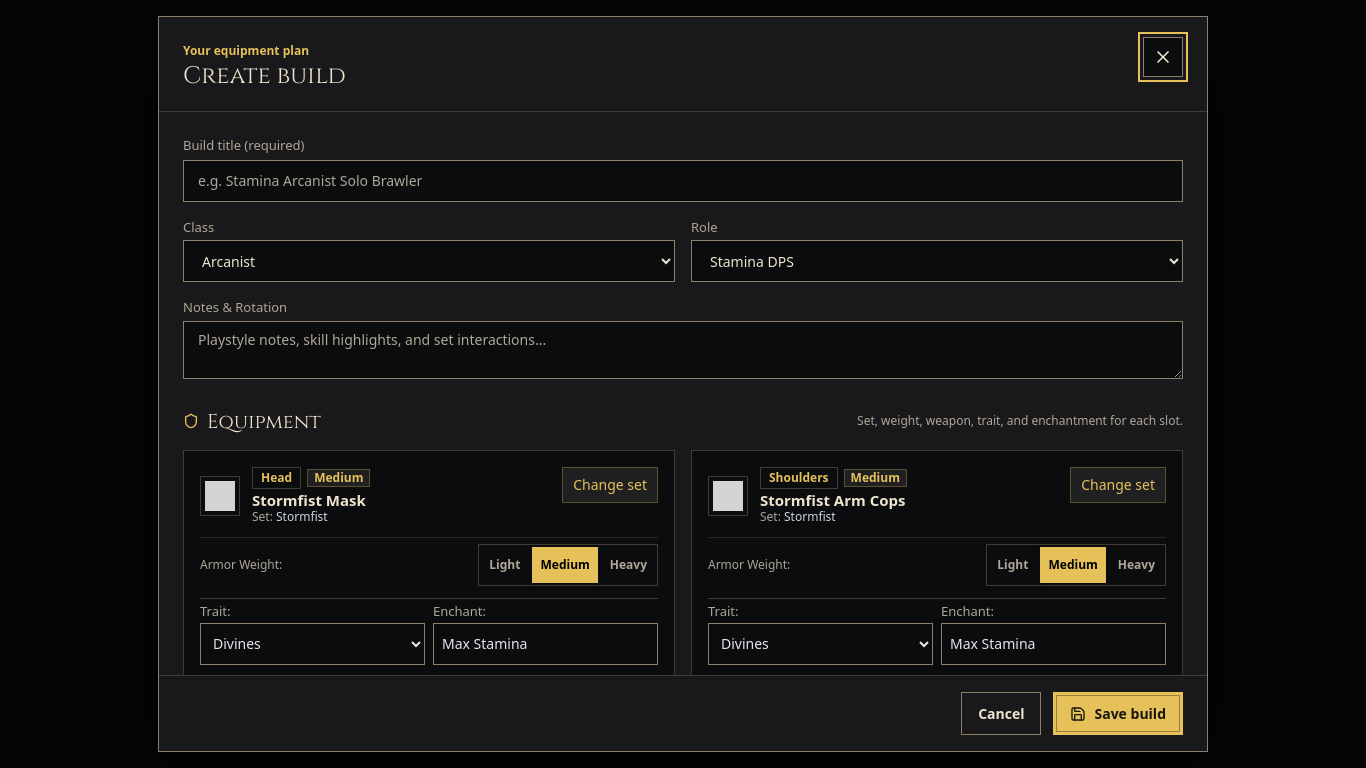
Test case: build presentation and workflow parity › traps the nested set picker, restores its opener, and keeps selected-set resolution
Click the button with aria-label "Change set for Head" at (610, 485), box [562,467,658,503]
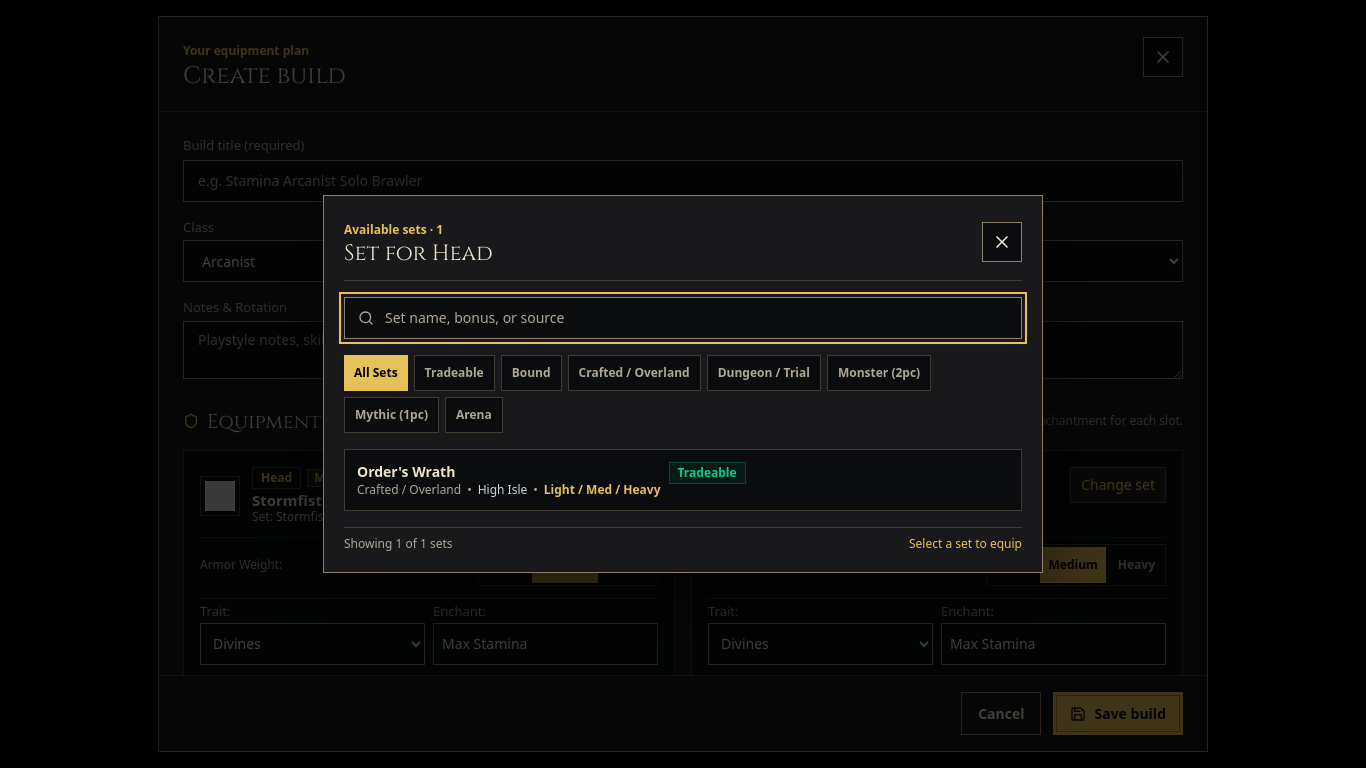
Check: the number of dialogs is 2
Press Escape
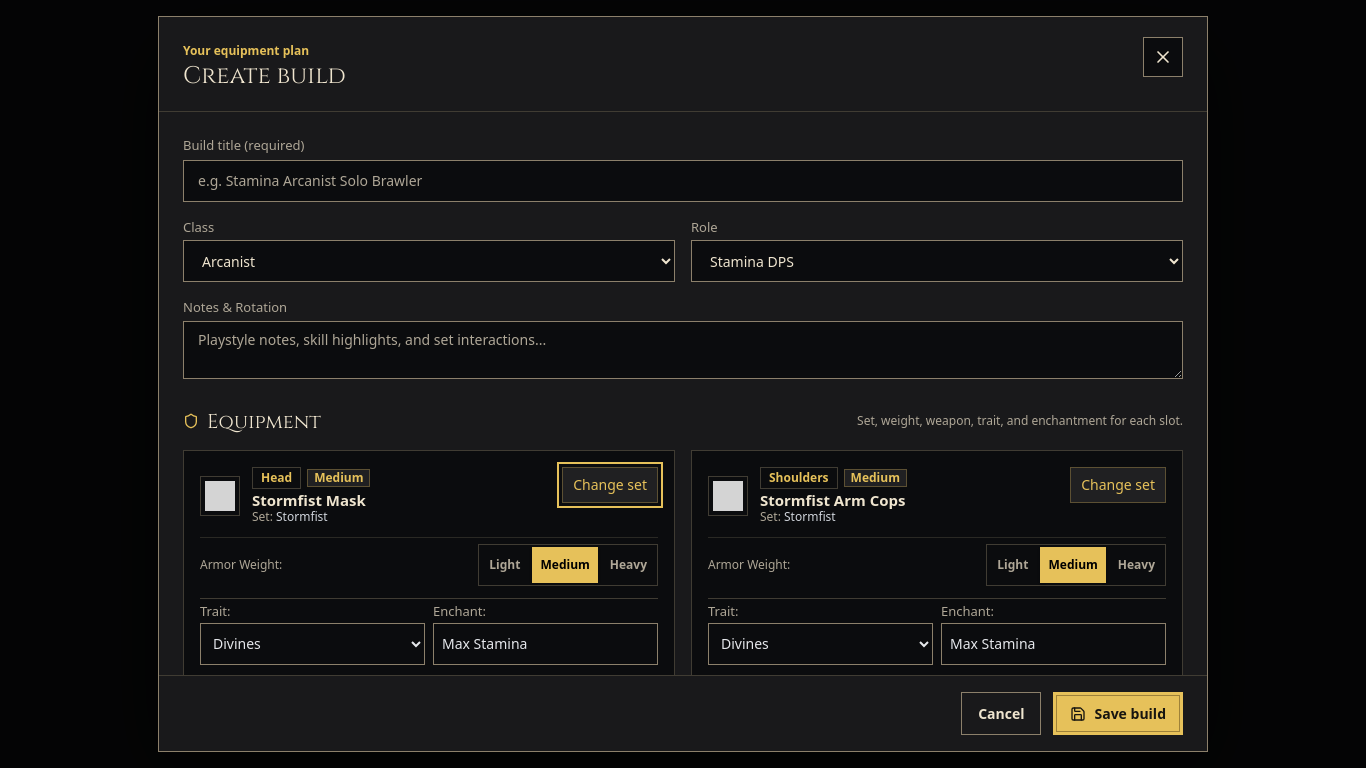
Check: the number of dialogs is 1
Click the button with aria-label "Change set for Head" at (610, 485), box [562,467,658,503]
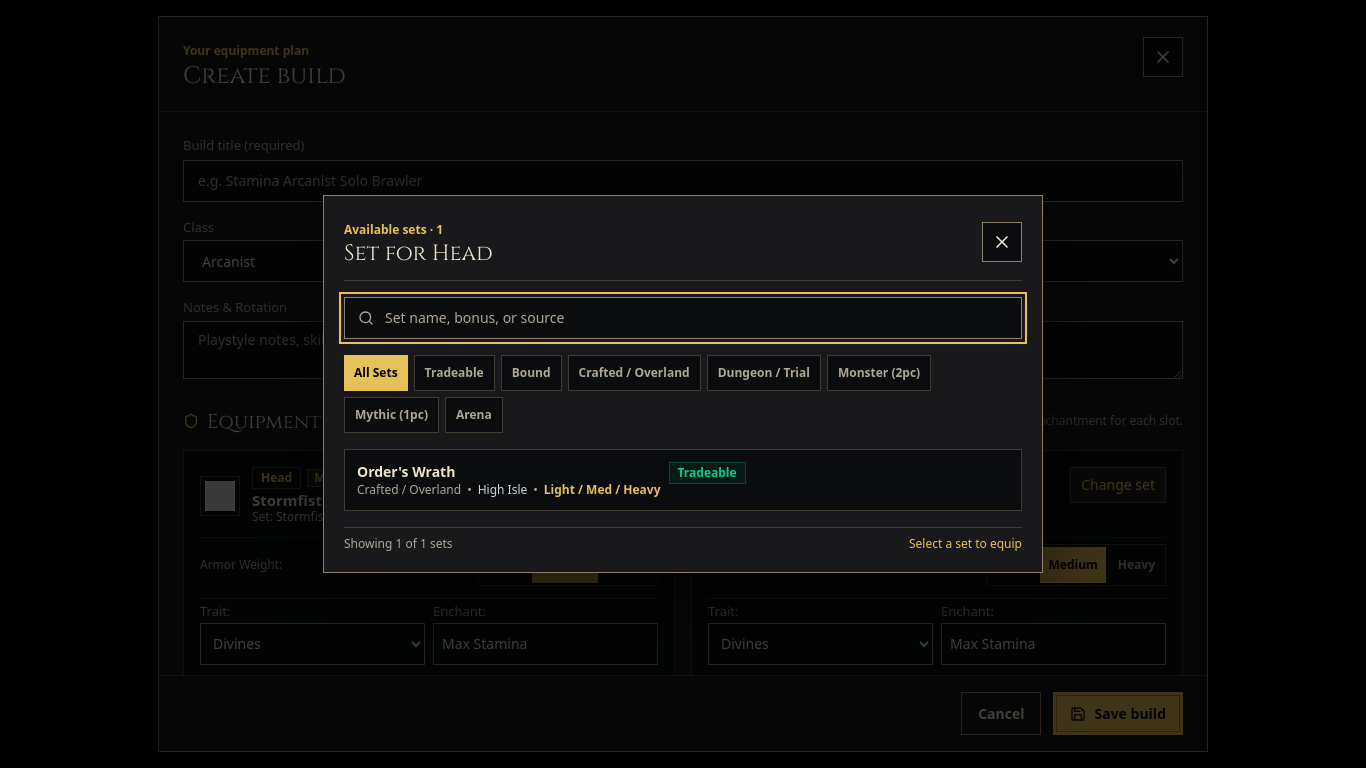
Click the button "Order's Wrath" at (683, 480), box [344,449,1022,511]
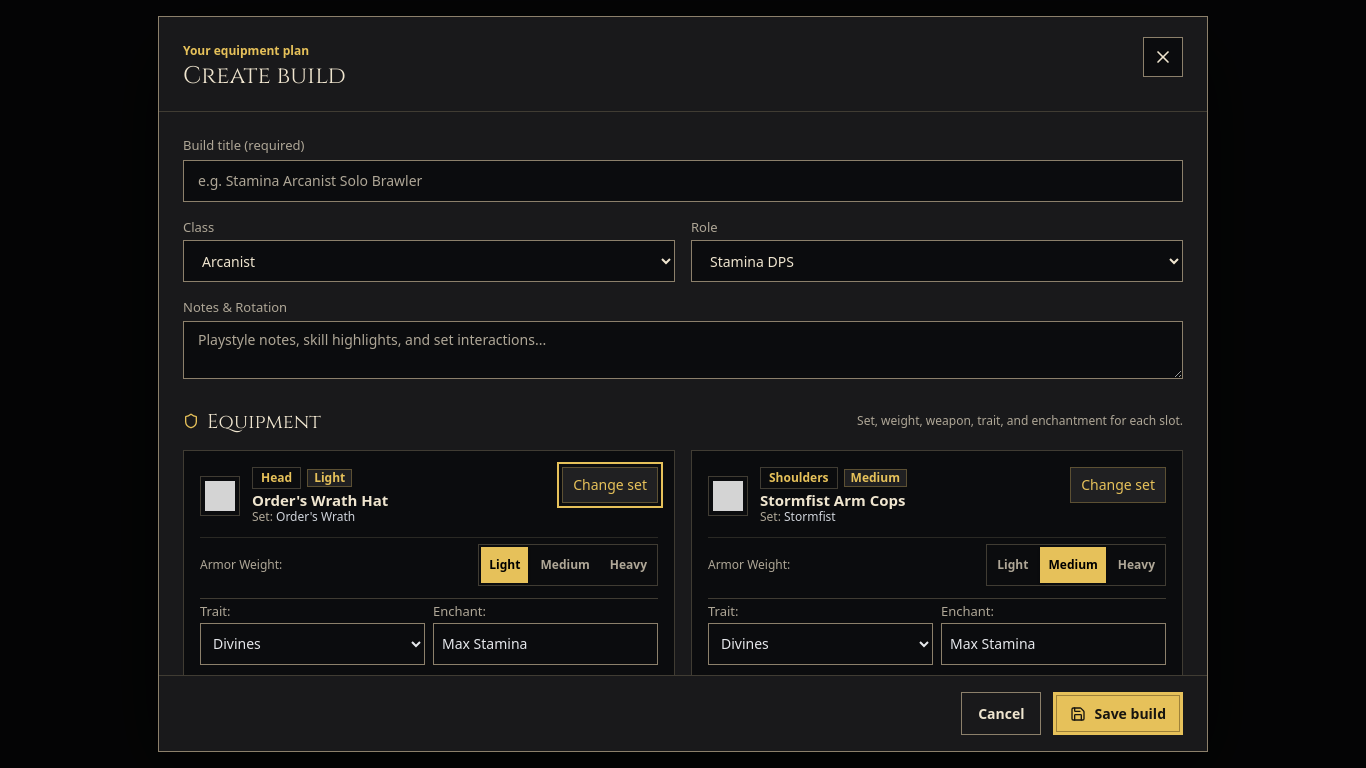
Check: the number of dialogs is 1
Check: the heading "Order's Wrath Hat" is shown, box [252,490,388,510]
